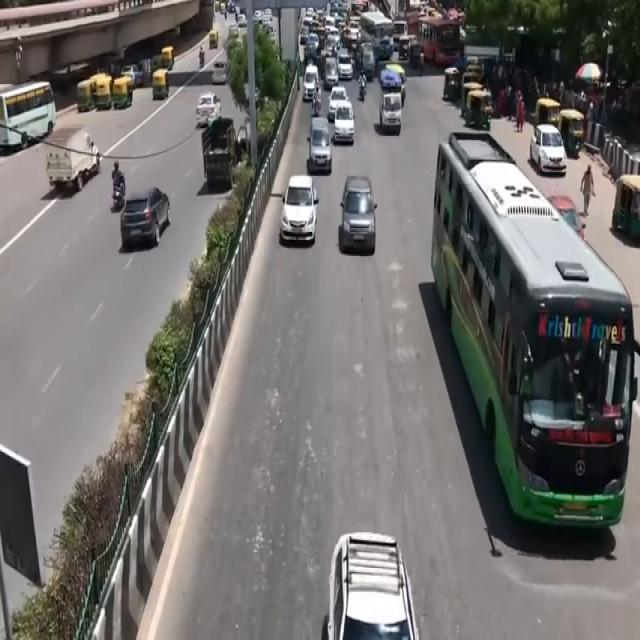BUS: (431, 132, 637, 541), (0, 84, 57, 154), (418, 12, 462, 65)
CMT: (46, 135, 100, 197)
MOTORCYCLE: (112, 178, 125, 211)
